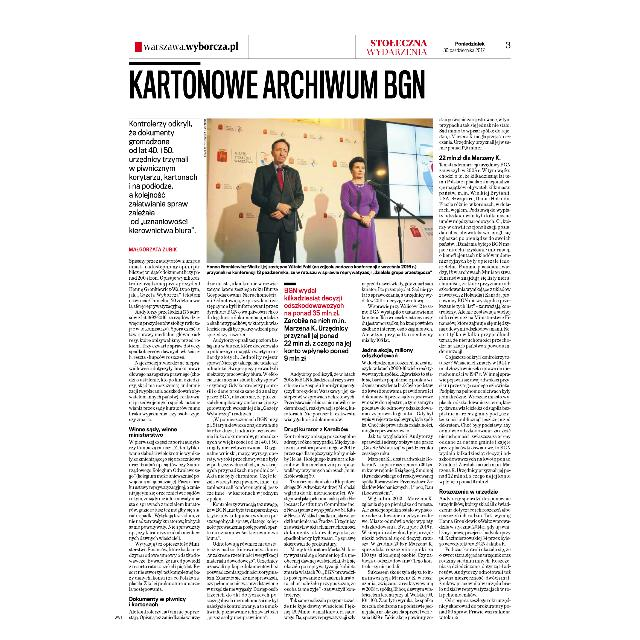article: (128, 62, 514, 624)
